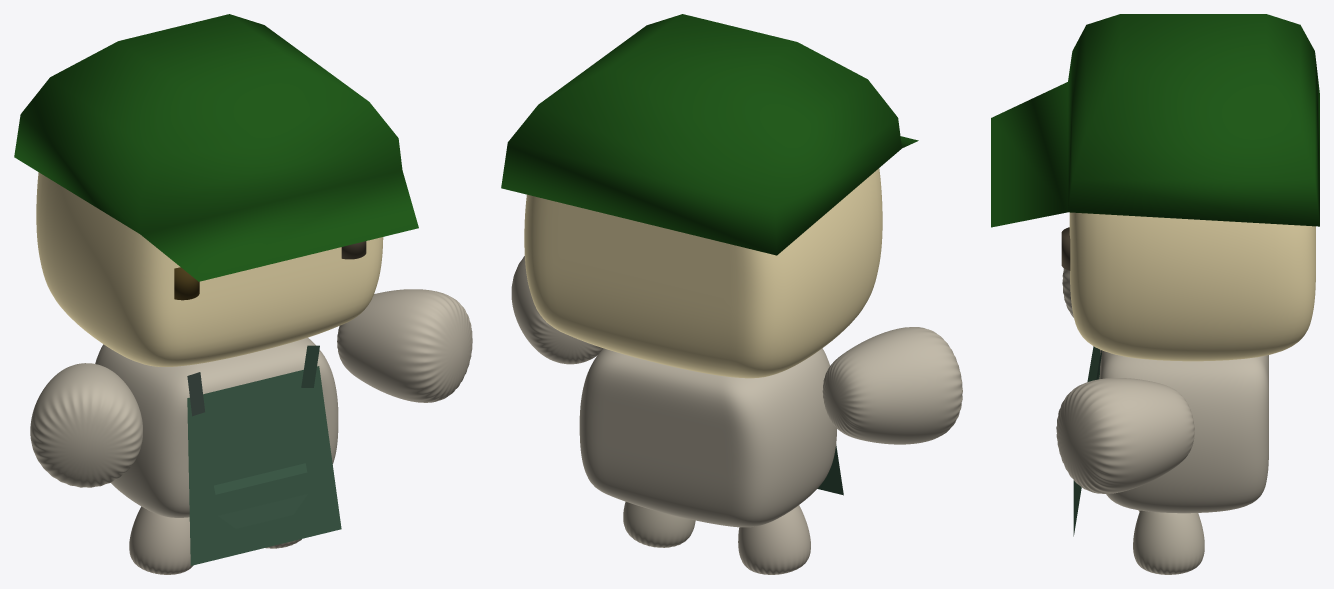
The model's file is 플레이어.fbx.
3 views of the same model, side by side, from view 1: azimuth 30°, elevation 25°; view 2: azimuth 150°, elevation 25°; view 3: azimuth 270°, elevation 25° (orthographic). The views are drawn at different scales.
Visible parts, largest first — view 1: 모자, 머리, Plane, 몸, 오른팔, 왼팔, Plane.003, 왼발, 왼눈, Plane.001, Plane.002; view 2: 모자, 머리, 몸, 왼팔, 왼발, 오른팔, 오른발; view 3: 모자, 머리, 몸, 오른팔, 오른발, Plane.
Boxes of the visible parts, bbox=[...] form: 모자: bbox=[14, 14, 418, 281]; 머리: bbox=[36, 172, 383, 366]; Plane: bbox=[187, 366, 341, 565]; 몸: bbox=[95, 337, 338, 517]; 오른팔: bbox=[337, 289, 472, 402]; 왼팔: bbox=[30, 363, 142, 487]; Plane.003: bbox=[214, 463, 308, 528]; 왼발: bbox=[129, 506, 193, 574]; 왼눈: bbox=[174, 267, 199, 300]; Plane.001: bbox=[187, 372, 204, 416]; Plane.002: bbox=[301, 345, 319, 387]; 모자: bbox=[501, 14, 918, 255]; 머리: bbox=[524, 168, 882, 378]; 몸: bbox=[579, 348, 836, 527]; 왼팔: bbox=[822, 327, 962, 444]; 왼발: bbox=[738, 505, 810, 574]; 오른팔: bbox=[511, 256, 602, 364]; 오른발: bbox=[623, 501, 695, 547]; 모자: bbox=[991, 14, 1319, 227]; 머리: bbox=[1069, 212, 1315, 361]; 몸: bbox=[1099, 349, 1268, 513]; 오른팔: bbox=[1056, 378, 1194, 493]; 오른발: bbox=[1133, 510, 1204, 574]; Plane: bbox=[1073, 346, 1099, 536].
Bounding box in the file's own units: 572 × 625 × 370.
